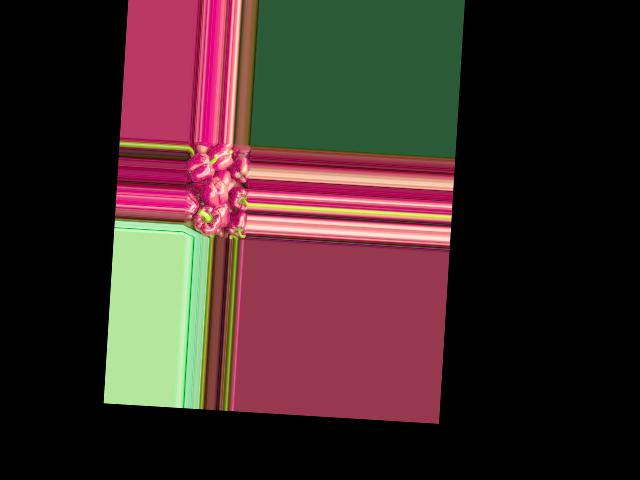bell_pepper: (227, 211, 247, 238)
